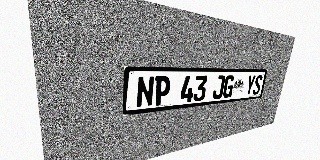3: (193, 76, 208, 102)
4: (180, 76, 196, 103)
G: (222, 75, 235, 98)
J: (212, 75, 226, 99)
N: (136, 76, 155, 108)
P: (153, 76, 171, 106)
S: (252, 75, 263, 95)
Y: (244, 75, 256, 96)
